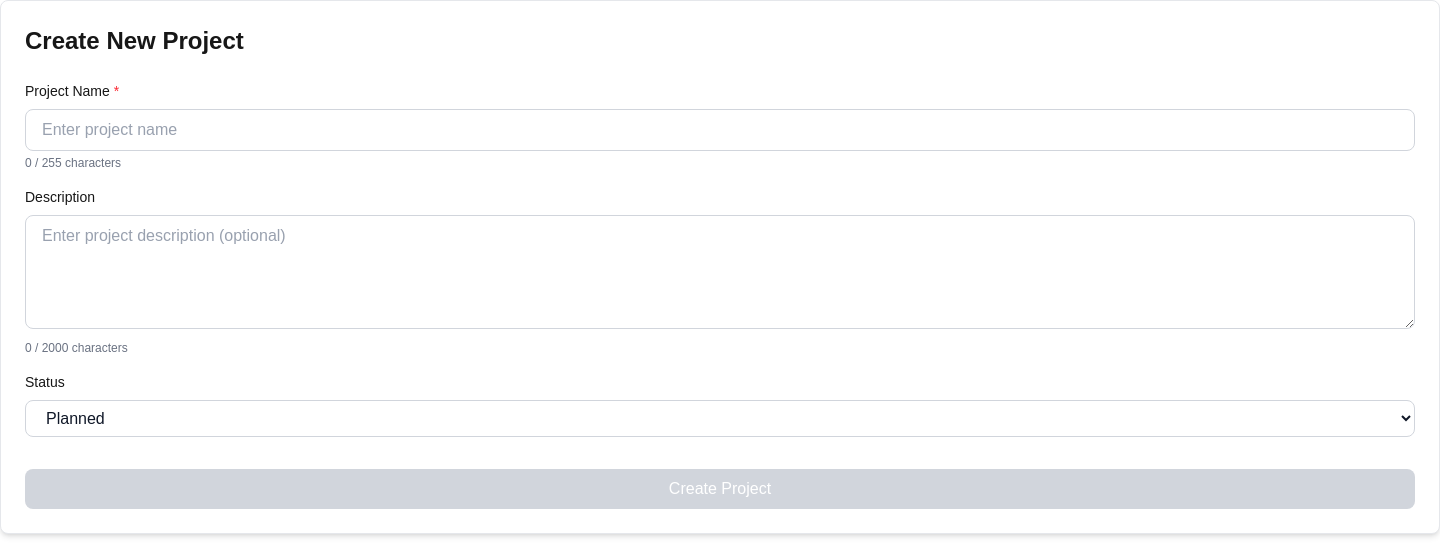
ProjectForm › Form Validation › should update character counter for name as user types
The width and height of the screenshot is (1440, 555).
Type "Hello World" into the field labelled "Project Name *" at point(720, 130), box [25,109,1415,151]
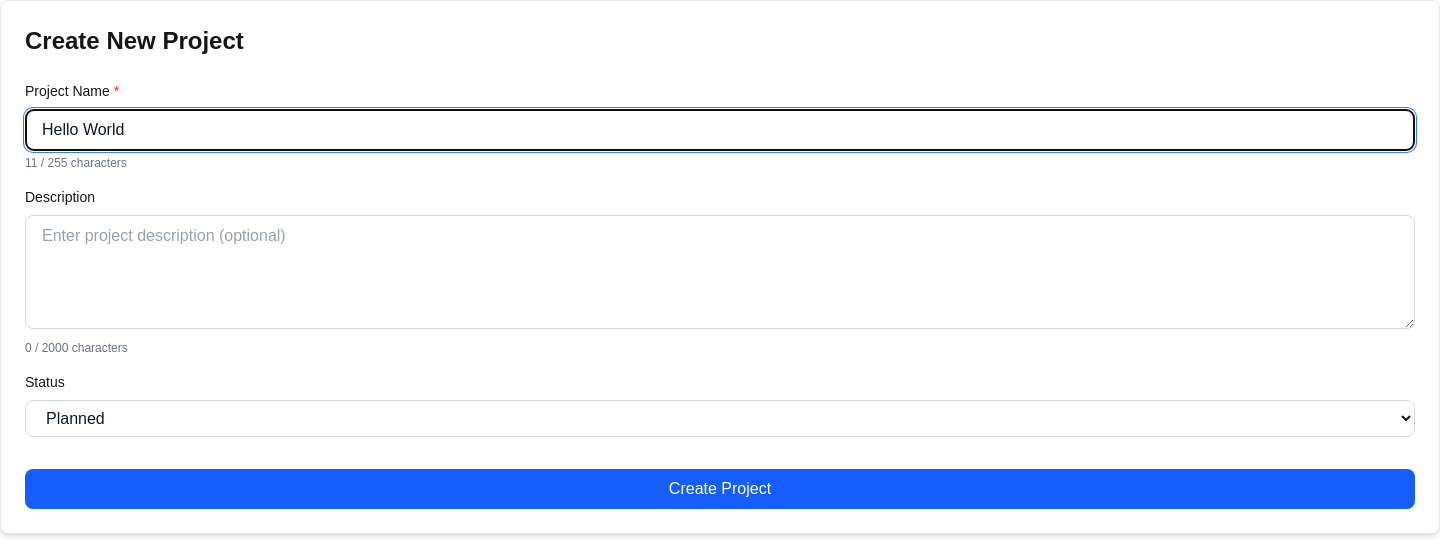
expect the text "11 / 255 characters" is shown: met, box [25,156,127,170]
